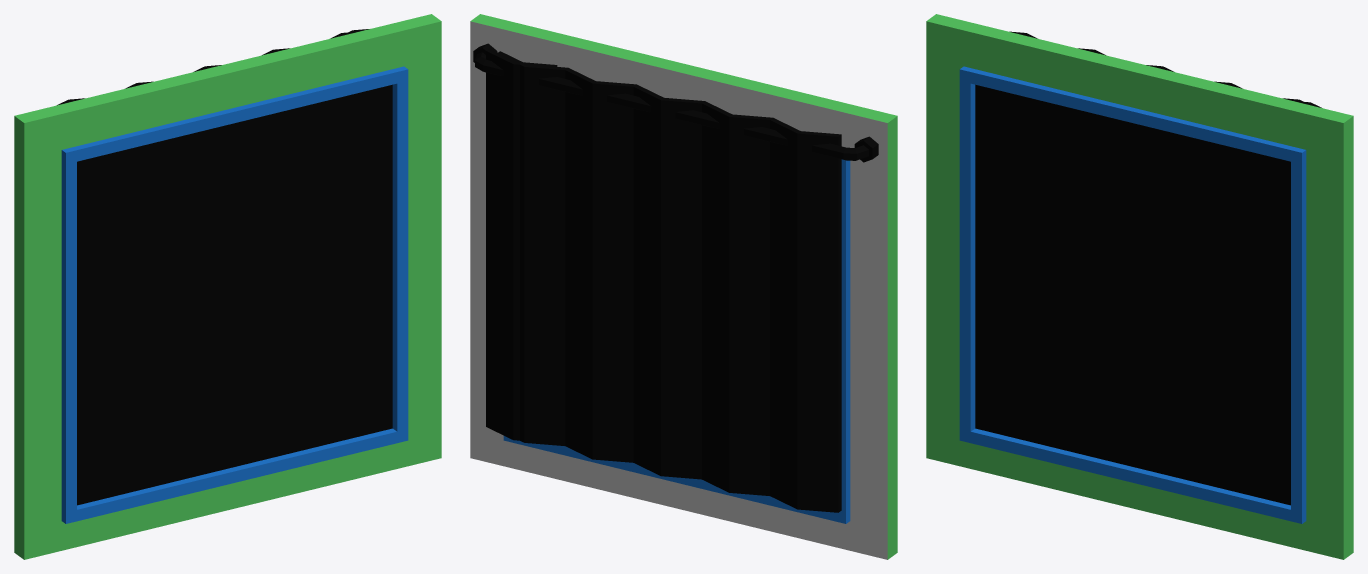
File: Ph_window_1.fbx
The picture shows the model from 3 angles, left to right: view 1: azimuth 30°, elevation 25°; view 2: azimuth 150°, elevation 25°; view 3: azimuth 330°, elevation 25°; orthographic projection.
Visible parts, largest first — view 1: Boole_4; view 2: Symmetry_19_2, Boole_4, Symmetry_19; view 3: Boole_4.
Boxes of the visible parts, <box> form: Boole_4: <box>14,14,441,559</box>; Symmetry_19_2: <box>498,51,772,495</box>; Boole_4: <box>470,14,897,559</box>; Symmetry_19: <box>473,43,878,512</box>; Boole_4: <box>926,14,1353,559</box>.
Size of the model in its own units: 250 by 250 by 33.36.
